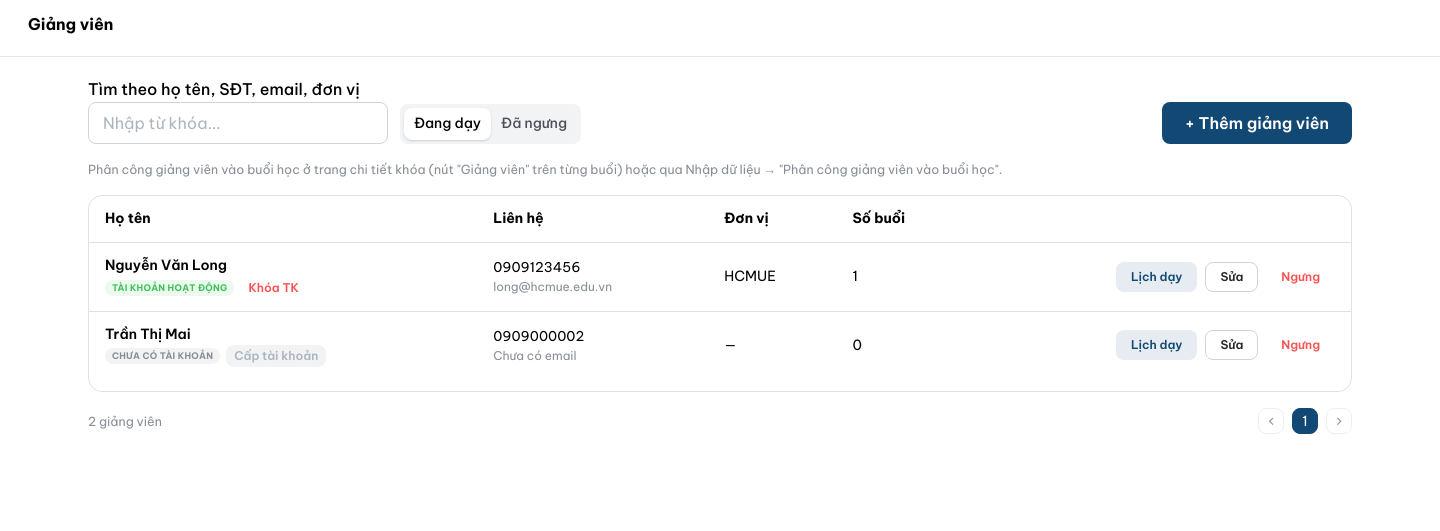
Test: Cấp tài khoản giảng viên › Quản trị: danh mục giảng viên hiện trạng thái tài khoản; khóa tài khoản
Expected: the text "Tài khoản hoạt động" is shown, [112,280,227,294]
Expected: the text "Chưa có tài khoản" is shown, [112,349,213,363]
Step 1. Click the button "Khóa TK" → [274, 288], box [240,276,307,298]
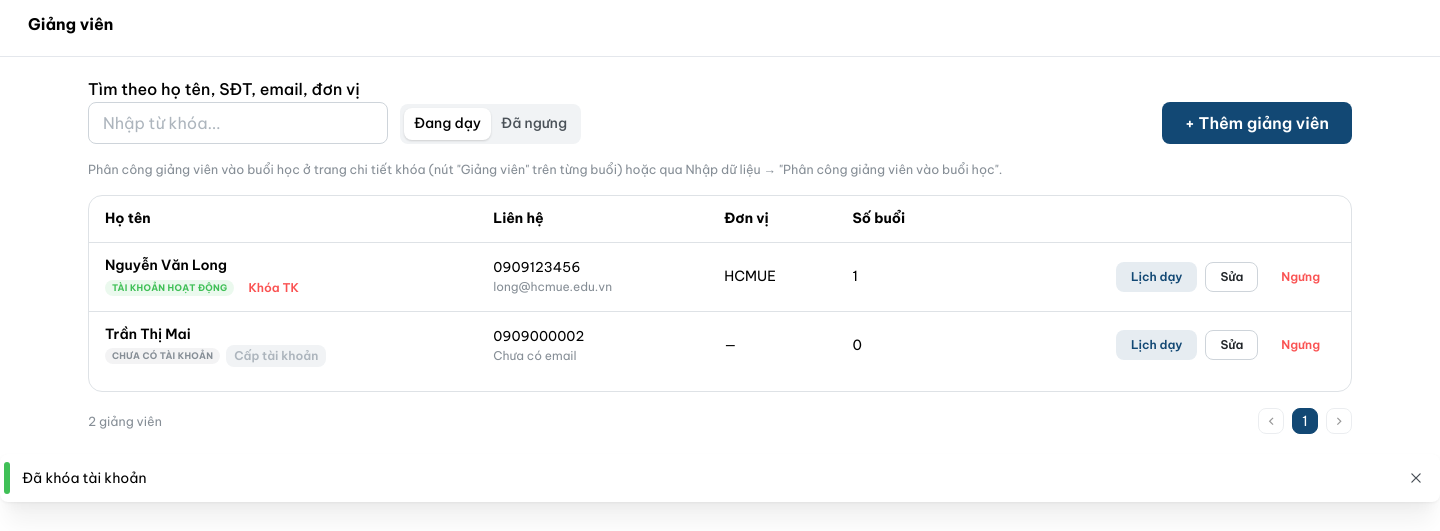
Now the text "Đã khóa tài khoản" is shown, box [22,469,146,487]
